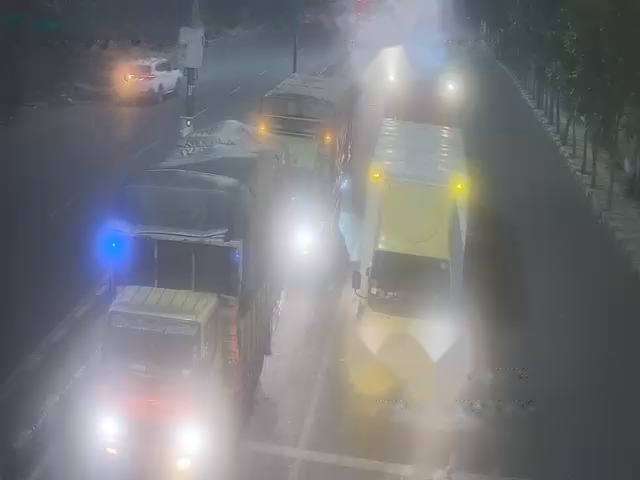Mobil: (115, 50, 176, 102)
Truk: (91, 123, 271, 458), (362, 108, 466, 383), (263, 64, 349, 272)
